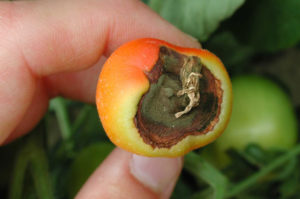blossom_rotw: (131, 41, 237, 151)
